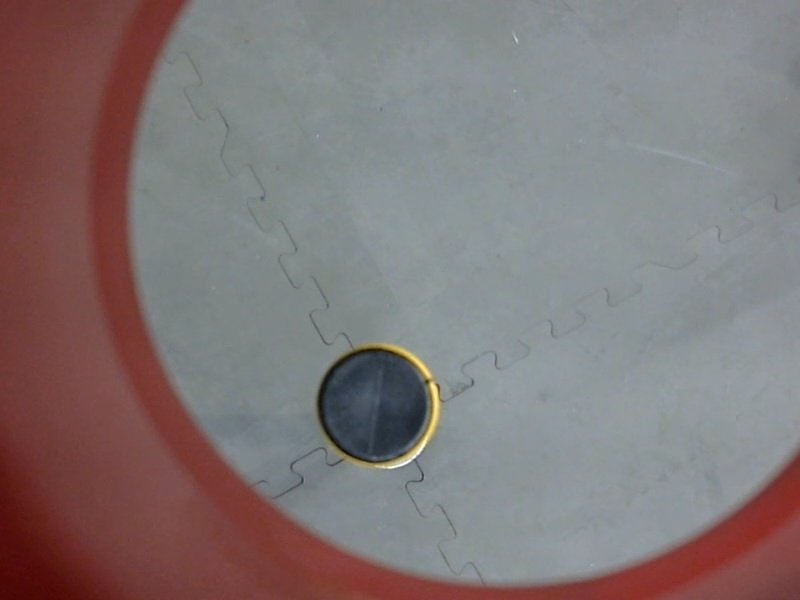tip: (310, 334, 442, 473)
